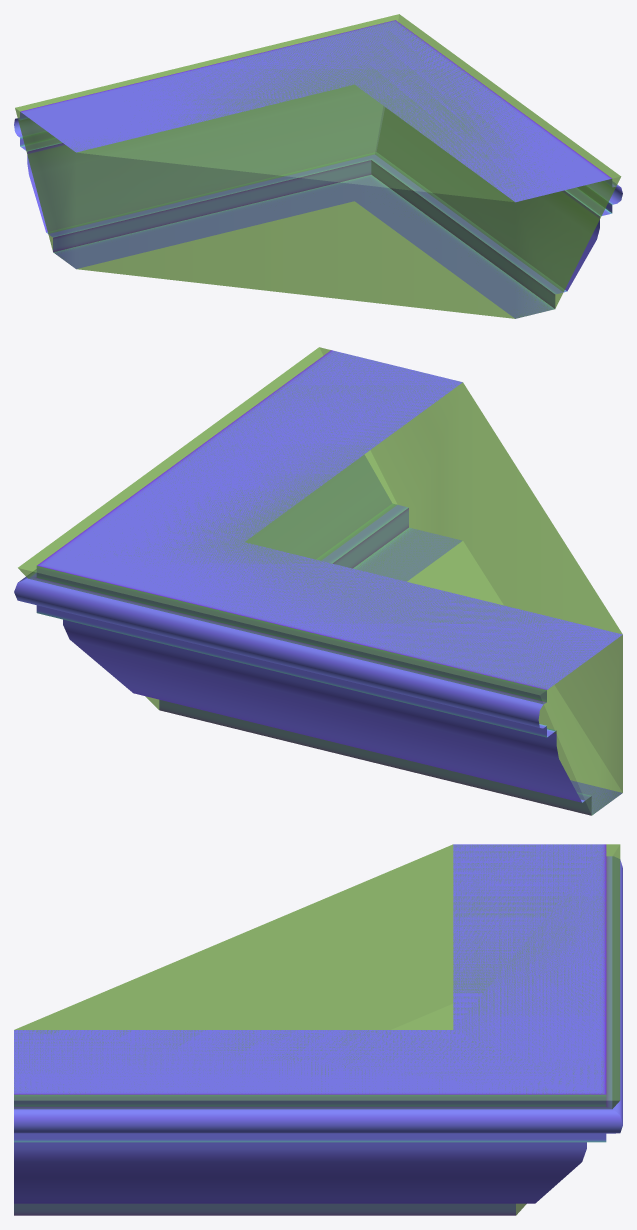
Rendered from F_md_TrimH_90cnr_05.fbx.
3 views of the same model, one above another, from view 1: azimuth 30°, elevation 25°; view 2: azimuth 150°, elevation 25°; view 3: azimuth 270°, elevation 25° (orthographic). The views are drawn at different scales.
Visible parts, largest first — view 1: F_md_TrimH_90cnr_05_col_01, F_md_TrimH_90cnr_05_LOD0; view 2: F_md_TrimH_90cnr_05_LOD0, F_md_TrimH_90cnr_05_col_01; view 3: F_md_TrimH_90cnr_05_LOD0, F_md_TrimH_90cnr_05_col_01.
Part boxes in pixels (bbox=[...]): F_md_TrimH_90cnr_05_col_01: bbox=[15, 14, 621, 318]; F_md_TrimH_90cnr_05_LOD0: bbox=[14, 20, 622, 318]; F_md_TrimH_90cnr_05_LOD0: bbox=[14, 350, 622, 815]; F_md_TrimH_90cnr_05_col_01: bbox=[18, 347, 622, 815]; F_md_TrimH_90cnr_05_LOD0: bbox=[14, 844, 622, 1215]; F_md_TrimH_90cnr_05_col_01: bbox=[14, 844, 620, 1215].
Size of what is drawn, in the model's own units: 139 by 40 by 139.
